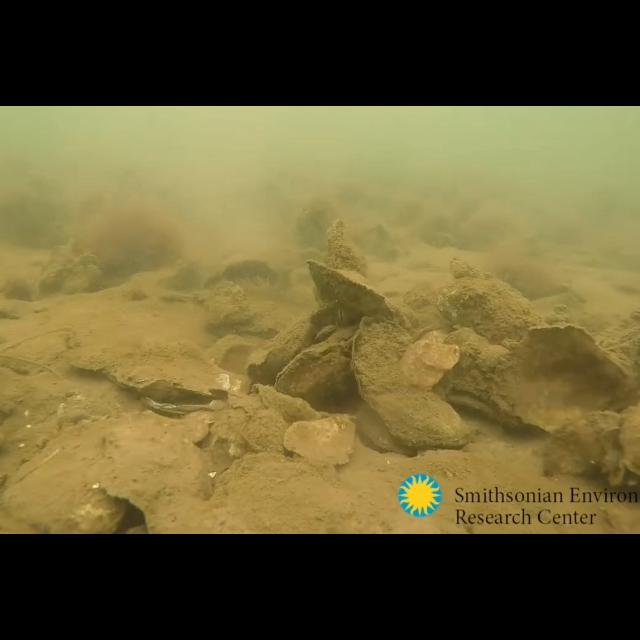Oyster-Closed: (352, 316, 476, 448), (96, 419, 214, 535), (510, 324, 630, 434), (210, 453, 364, 535), (434, 253, 562, 344), (72, 339, 230, 399), (246, 309, 334, 387), (274, 326, 360, 404), (540, 409, 628, 477), (306, 258, 392, 314), (282, 416, 356, 466), (250, 383, 326, 422), (326, 218, 368, 280), (243, 408, 293, 456)
Oyster-Open: (442, 379, 524, 429), (312, 324, 338, 341), (336, 307, 349, 327)
